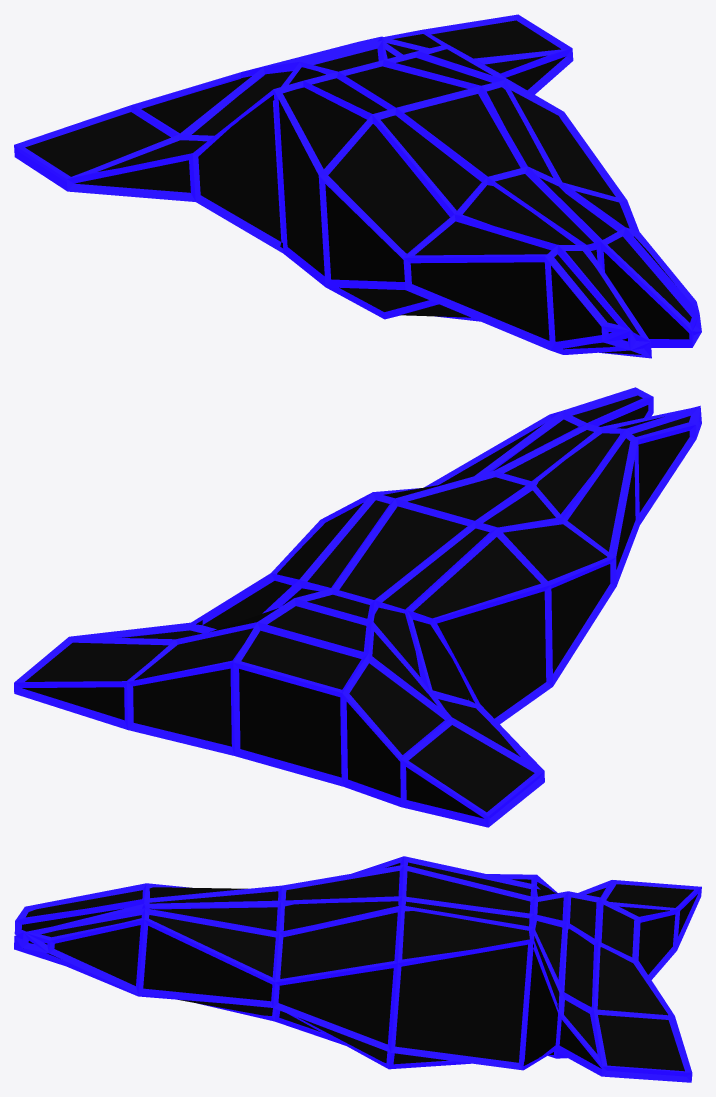
File: PlayerShip.fbx
3 views of the same model, one above another, from view 1: azimuth 30°, elevation 25°; view 2: azimuth 150°, elevation 25°; view 3: azimuth 270°, elevation 25° (orthographic). The views are drawn at different scales.
Parts seen in each view (by area): view 1: Cube, Outline; view 2: Cube, Outline; view 3: Cube, Outline.
Part boxes in pixels (<box>): Cube: <box>25,20,691,354</box>; Outline: <box>14,14,701,358</box>; Cube: <box>22,395,690,818</box>; Outline: <box>14,387,701,827</box>; Cube: <box>21,862,697,1071</box>; Outline: <box>14,856,701,1082</box>.
Bounding box in the file's own units: 601 × 233 × 882.
